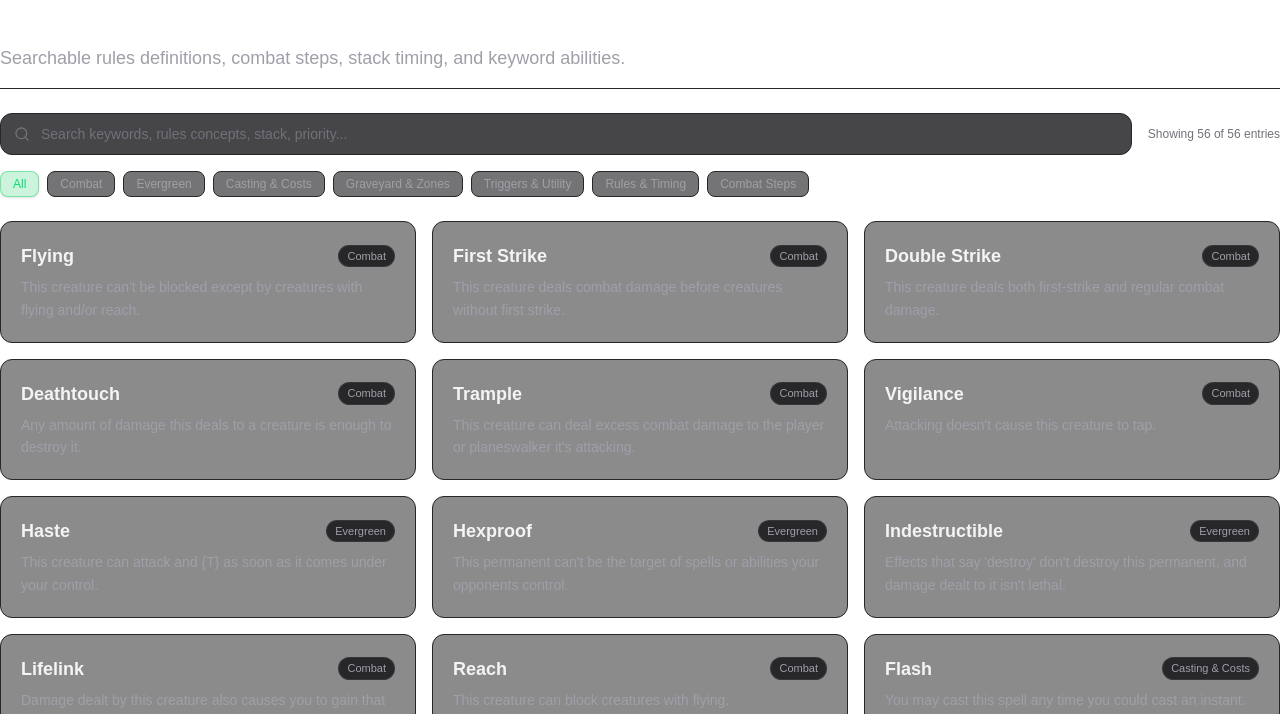
Test: KeywordGlossarySection Component › filters entries when typing into search input
The width and height of the screenshot is (1280, 714).
In the search field named "search glossary": (566, 134) x1=0 y1=113 x2=1132 y2=155, type "priority"
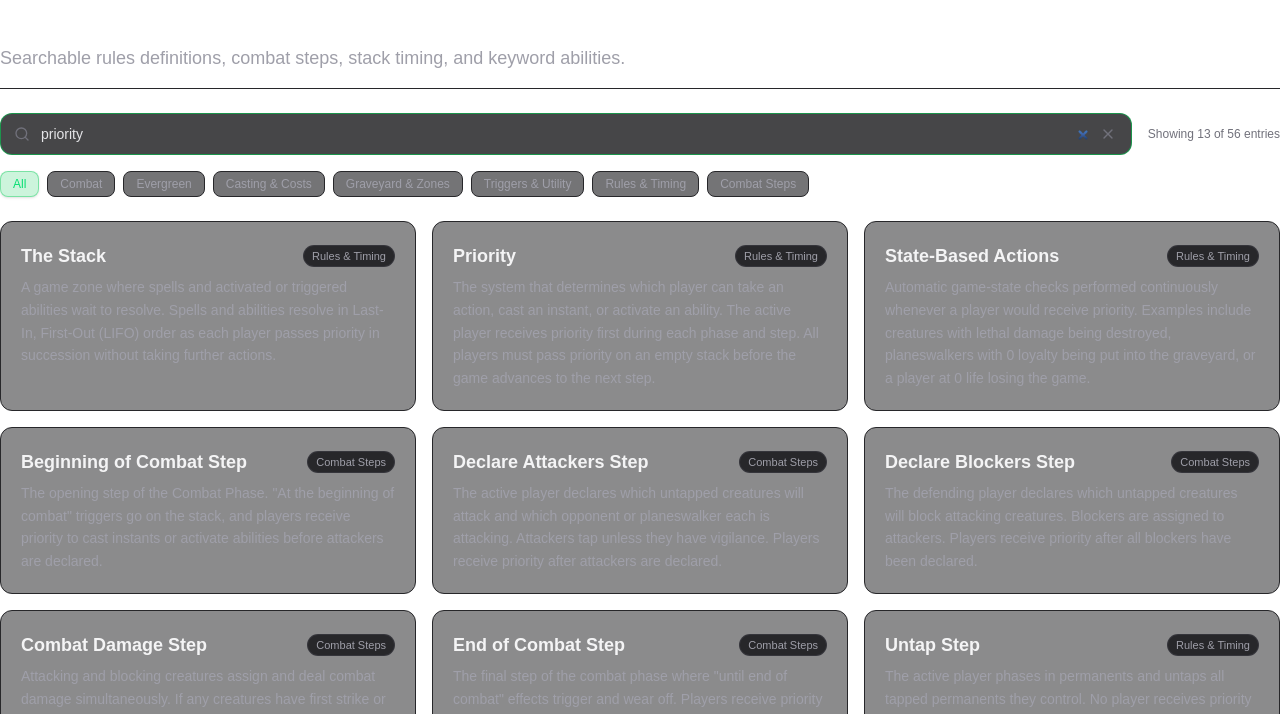
Expected: the heading "Priority" is shown, x1=453 y1=242 x2=516 y2=270
Now the heading "Flying" is gone
